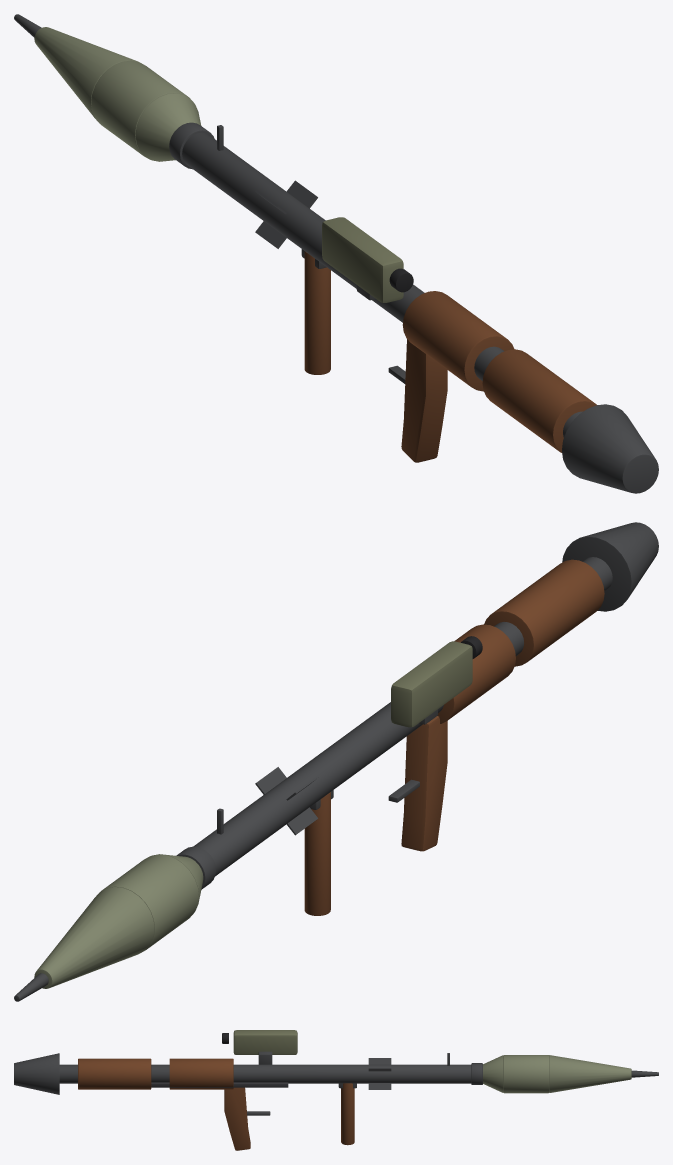
The model's file is rpg.glb.
The picture shows the model from 3 angles, top to bottom: view 1: azimuth 30°, elevation 25°; view 2: azimuth 150°, elevation 25°; view 3: azimuth 270°, elevation 25°; orthographic projection. The views are drawn at different scales.
Visible parts, largest first — view 1: rpg_tube, rpg_venturi, rpg_heatguard_r, rpg_heatguard_f, rpg_rgrip, rocket_warhead, rpg_optic, rocket_ogive, rpg_fgrip, rocket_neck, rpg_muzzlering; view 2: rpg_tube, rocket_ogive, rpg_heatguard_r, rpg_rgrip, rpg_optic, rpg_venturi, rocket_warhead, rpg_heatguard_f, rpg_fgrip, rpg_muzzlering; view 3: rpg_tube, rpg_heatguard_r, rocket_ogive, rpg_heatguard_f, rocket_warhead, rpg_optic, rpg_venturi, rpg_rgrip, rpg_fgrip, rocket_neck, rpg_strap, rpg_muzzlering (+1 smaller).
Boxes of the visible parts, bbox=[...] form: rpg_tube: bbox=[182, 132, 582, 437]; rpg_venturi: bbox=[562, 404, 658, 493]; rpg_heatguard_r: bbox=[482, 349, 596, 452]; rpg_heatguard_f: bbox=[402, 291, 514, 391]; rpg_rgrip: bbox=[401, 339, 447, 462]; rocket_warhead: bbox=[91, 60, 194, 159]; rpg_optic: bbox=[322, 217, 403, 302]; rocket_ogive: bbox=[34, 27, 138, 121]; rpg_fgrip: bbox=[304, 251, 330, 374]; rocket_neck: bbox=[135, 93, 201, 161]; rpg_muzzlering: bbox=[169, 122, 214, 169]; rpg_tube: bbox=[193, 557, 612, 876]; rocket_ogive: bbox=[34, 887, 154, 988]; rpg_heatguard_r: bbox=[484, 559, 604, 666]; rpg_rgrip: bbox=[401, 716, 447, 851]; rpg_optic: bbox=[391, 641, 472, 727]; rpg_venturi: bbox=[562, 522, 658, 611]; rocket_warhead: bbox=[100, 854, 198, 950]; rpg_heatguard_f: bbox=[437, 624, 515, 723]; rpg_fgrip: bbox=[304, 792, 330, 915]; rpg_muzzlering: bbox=[176, 846, 215, 889]; rpg_tube: bbox=[59, 1064, 471, 1083]; rpg_heatguard_r: bbox=[78, 1058, 151, 1089]; rocket_ogive: bbox=[549, 1055, 631, 1092]; rpg_heatguard_f: bbox=[169, 1058, 233, 1089]; rocket_warhead: bbox=[503, 1055, 549, 1093]; rpg_optic: bbox=[233, 1030, 297, 1054]; rpg_venturi: bbox=[14, 1053, 59, 1094]; rpg_rgrip: bbox=[224, 1087, 250, 1150]; rpg_fgrip: bbox=[341, 1083, 354, 1145]; rocket_neck: bbox=[483, 1055, 503, 1092]; rpg_strap: bbox=[151, 1082, 288, 1087]; rpg_muzzlering: bbox=[471, 1063, 482, 1084].
Size of the model in its own units: 0.1057 by 0.2594 by 1.41.
